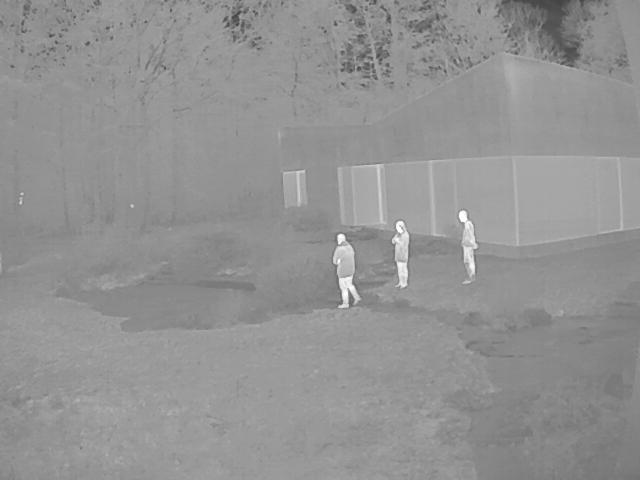person: (334, 231, 361, 307), (459, 208, 480, 282), (391, 219, 412, 286)
